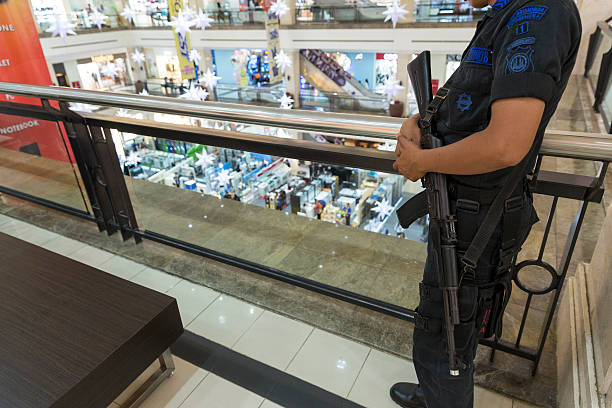rifle: (403, 48, 475, 384)
